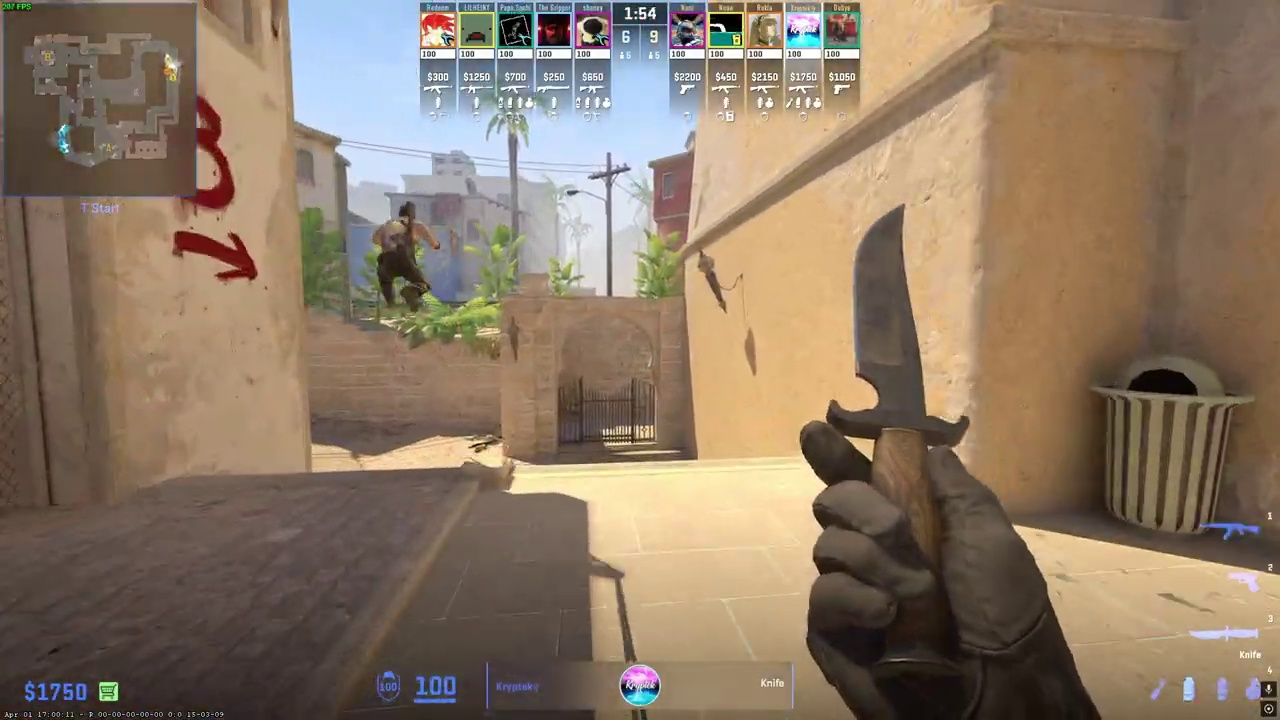Terrorist: (375, 202, 434, 316)
